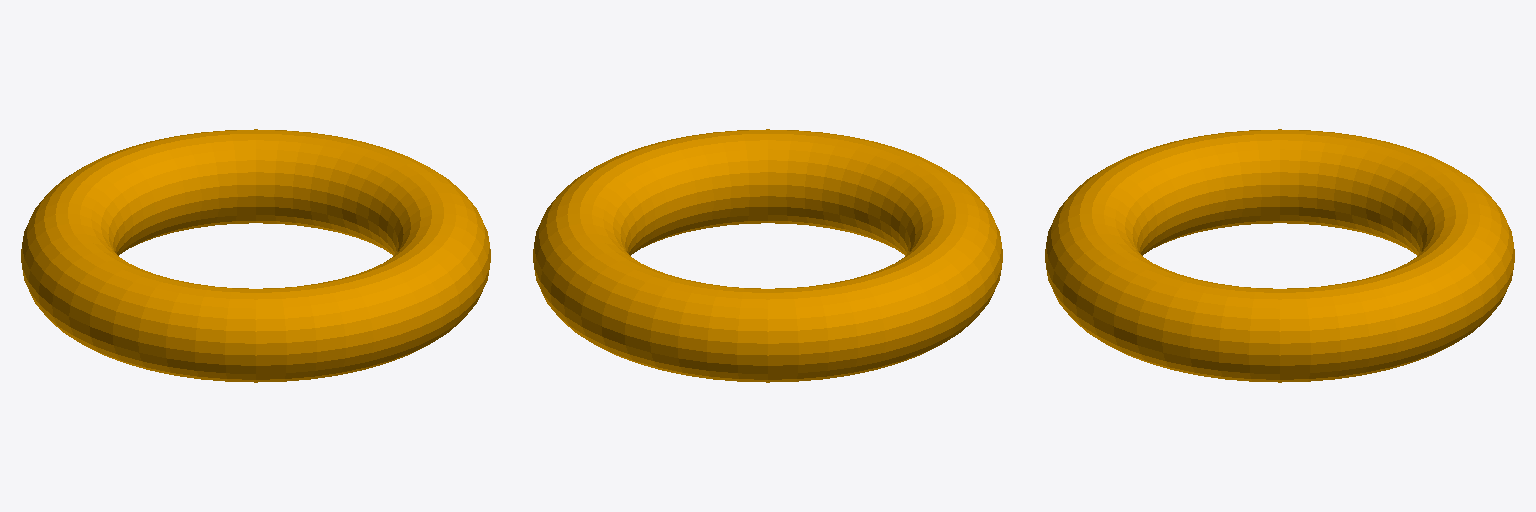
URDF robot description (torus):

<robot name="torus">
    <link name="base">
        <inertial>
            <origin xyz="-0.0 -0.0 -0.0" />
            <mass value="0.2627" />
            <inertia ixx="0.0508" ixy="0.0" 
                     ixz="-0.0" iyy="0.0508" 
                     iyz="-0.0" izz="0.0987" />
        </inertial>
        <visual>
            <origin xyz="0 0 0" />
            <geometry>
                <mesh filename="visual_geometry.obj" />
            </geometry>
        </visual>
        <collision>
            <origin xyz="0 0 0" />
            <geometry>
                <mesh filename="collision_geometry.obj" />
            </geometry>
        </collision>
    </link>
</robot>

--- Render facts (derived) ---
Views: 3 orthographic renders of the robot side by side, from view 1: azimuth 30°, elevation 25°; view 2: azimuth 150°, elevation 25°; view 3: azimuth 270°, elevation 25°.
Model torus with 1 links and 0 joints (none), rooted at base, posed every joint at zero.
Visible links, largest first — view 1: base; view 2: base; view 3: base.
Link boxes in pixels (box(x1,y1,x2,y2)): base: box(21, 129, 490, 382); base: box(533, 129, 1002, 382); base: box(1045, 129, 1514, 382).
Bounding box of the posed robot: 1.5 × 1.5 × 0.3 m (x, y, z).
Meshes: 1 distinct files referenced, 1 mesh visuals loaded (1 OBJ).